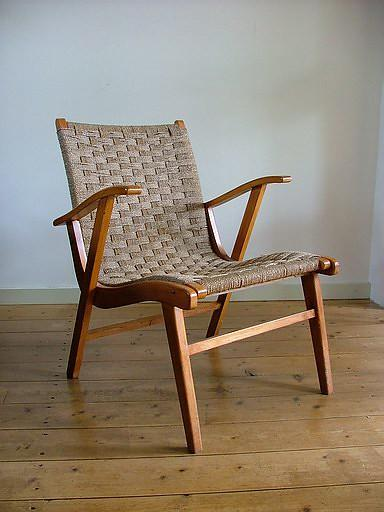chair: (53, 117, 341, 455)
